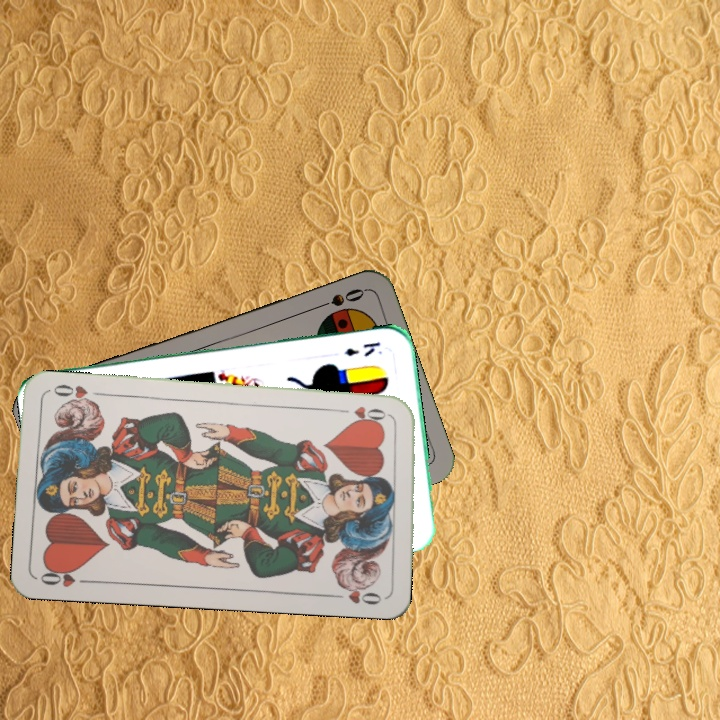EK: (340, 337, 382, 359)
HO: (36, 564, 95, 590), (337, 402, 395, 424)
SO: (310, 284, 367, 313)
